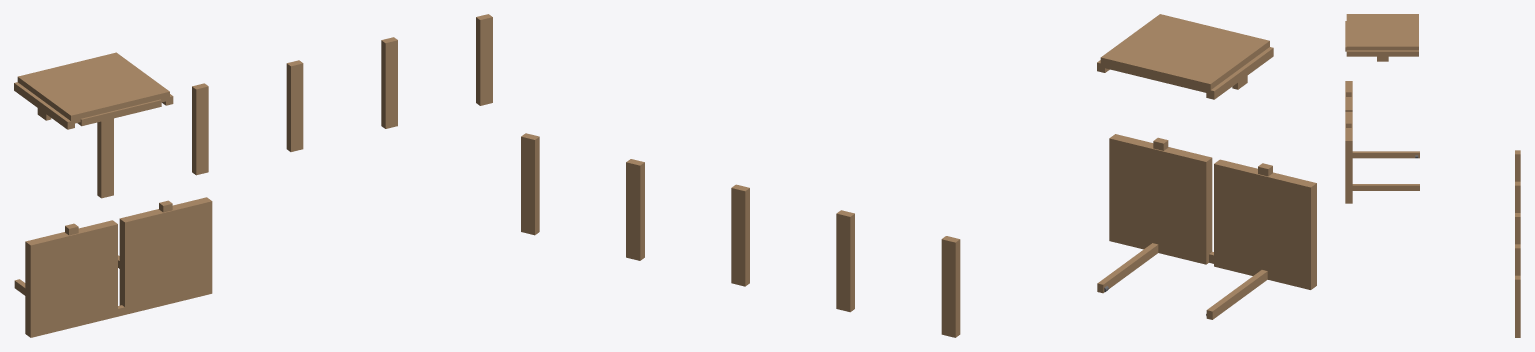
Rendered from chair.glb.
The picture shows the model from 3 angles, left to right: view 1: azimuth 30°, elevation 25°; view 2: azimuth 150°, elevation 25°; view 3: azimuth 270°, elevation 25°; orthographic projection. The views are drawn at different scales.
Visible parts, largest first — view 1: leg.back_1, leg.back_2, seat.panel, back.slat_3, back.slat_2, back.slat_4, back.slat_5, back.slat_1, leg.front_1, leg.front_2, back.top_rail, seat.rail.cross_1 (+1 smaller); view 2: leg.back_1, leg.back_2, seat.panel, back.slat_1, back.slat_3, back.slat_2, back.slat_5, back.slat_4, stretcher.side_1, stretcher.side_2, leg.front_2, seat.rail.cross_1 (+1 smaller); view 3: seat.panel, leg.back_2, stretcher.side_1, seat.rail.cross_2, stretcher.side_2, back.slat_5, leg.back_1, back.slat_1, back.slat_2, back.slat_3, back.slat_4, seat.rail.side_2.
Part boxes in pixels (box(x1,y1,x2,y2)): leg.back_1: box(25, 220, 117, 337); leg.back_2: box(119, 197, 212, 314); seat.panel: box(17, 52, 169, 124); back.slat_3: box(286, 60, 303, 151); back.slat_2: box(192, 83, 208, 175); back.slat_4: box(381, 37, 397, 128); back.slat_5: box(476, 14, 492, 105); back.slat_1: box(97, 118, 113, 198); leg.front_1: box(64, 232, 79, 327); leg.front_2: box(163, 210, 173, 305); back.top_rail: box(77, 99, 161, 126); seat.rail.cross_1: box(16, 83, 68, 127); leg.back_1: box(1214, 159, 1316, 289); leg.back_2: box(1109, 134, 1212, 264); seat.panel: box(1100, 14, 1269, 93); back.slat_1: box(941, 236, 960, 337); back.slat_3: box(731, 184, 749, 286); back.slat_2: box(836, 210, 854, 312); back.slat_5: box(521, 133, 539, 235); back.slat_4: box(626, 159, 644, 260); stretcher.side_1: box(1206, 270, 1267, 319); stretcher.side_2: box(1097, 243, 1158, 293); leg.front_2: box(1154, 147, 1168, 253); seat.rail.cross_1: box(1213, 48, 1271, 97); seat.panel: box(1346, 14, 1418, 50); leg.back_2: box(1345, 112, 1352, 203); stretcher.side_1: box(1352, 151, 1419, 158); seat.rail.cross_2: box(1349, 50, 1416, 56); stretcher.side_2: box(1352, 184, 1419, 190); back.slat_5: box(1515, 275, 1520, 337); leg.back_1: box(1345, 81, 1352, 111); back.slat_1: box(1515, 150, 1520, 181); back.slat_2: box(1515, 181, 1520, 212); back.slat_3: box(1515, 213, 1520, 244); back.slat_4: box(1515, 244, 1520, 275); seat.rail.side_2: box(1346, 50, 1418, 56).
Bounding box in the file's own units: 2.79 × 0.96 × 1.07.
